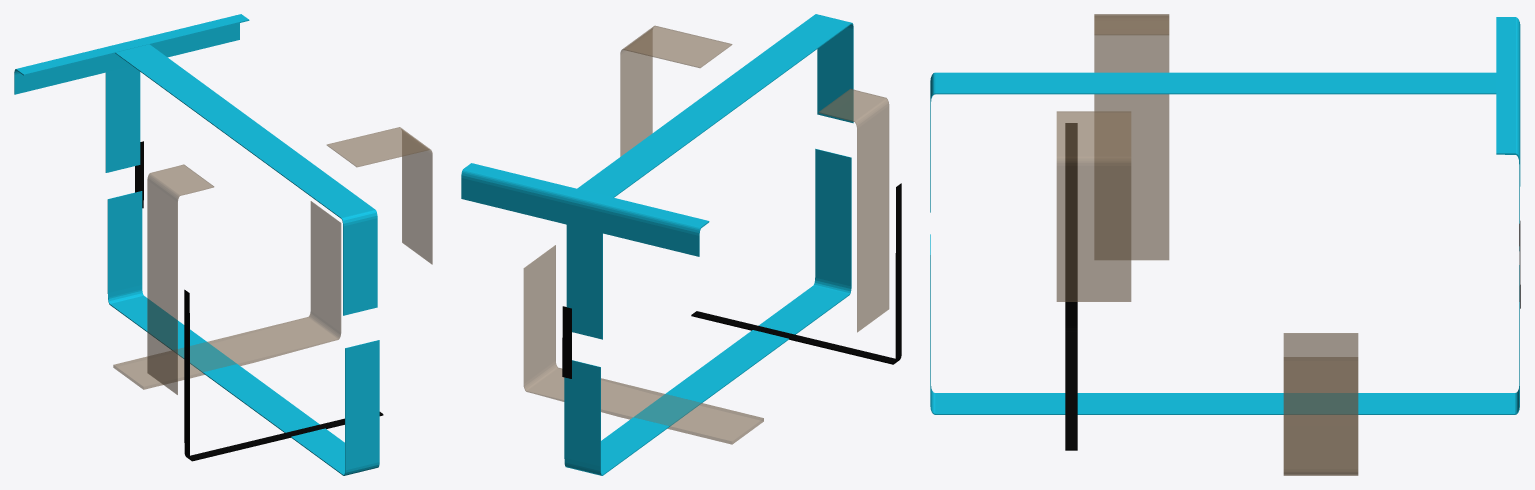
File: tape_close_6.fbx
3 renders of one model, left to right at view 1: azimuth 30°, elevation 25°; view 2: azimuth 150°, elevation 25°; view 3: azimuth 270°, elevation 25°, orthographic. The views are drawn at different scales.
Visible parts, largest first — view 1: tape_0.024, 평면.095, 평면.091, 평면.090, 평면.092, 평면.093; view 2: tape_0.024, 평면.095, 평면.092, 평면.091, 평면.090, 평면.093, 평면.096; view 3: tape_0.024, 평면.091, 평면.090, 평면.095, 평면.093, 평면.092.
Part boxes in pixels (left/top/right/bottom): tape_0.024: left=105, top=44, right=379, bottom=475; 평면.095: left=113, top=201, right=341, bottom=389; 평면.091: left=147, top=164, right=213, bottom=394; 평면.090: left=327, top=127, right=432, bottom=264; 평면.092: left=14, top=14, right=249, bottom=94; 평면.093: left=184, top=289, right=383, bottom=461; tape_0.024: left=564, top=14, right=853, bottom=475; 평면.095: left=523, top=245, right=763, bottom=444; 평면.092: left=461, top=163, right=709, bottom=256; 평면.091: left=818, top=89, right=889, bottom=332; 평면.090: left=620, top=25, right=732, bottom=156; 평면.093: left=691, top=183, right=901, bottom=364; 평면.096: left=562, top=306, right=571, bottom=378; tape_0.024: left=930, top=72, right=1519, bottom=414; 평면.091: left=1094, top=14, right=1169, bottom=260; 평면.090: left=1056, top=111, right=1131, bottom=301; 평면.095: left=1283, top=333, right=1358, bottom=475; 평면.093: left=1065, top=123, right=1077, bottom=450; 평면.092: left=1496, top=17, right=1520, bottom=186.
Size of the model in its own units: 146 by 152 by 251.
